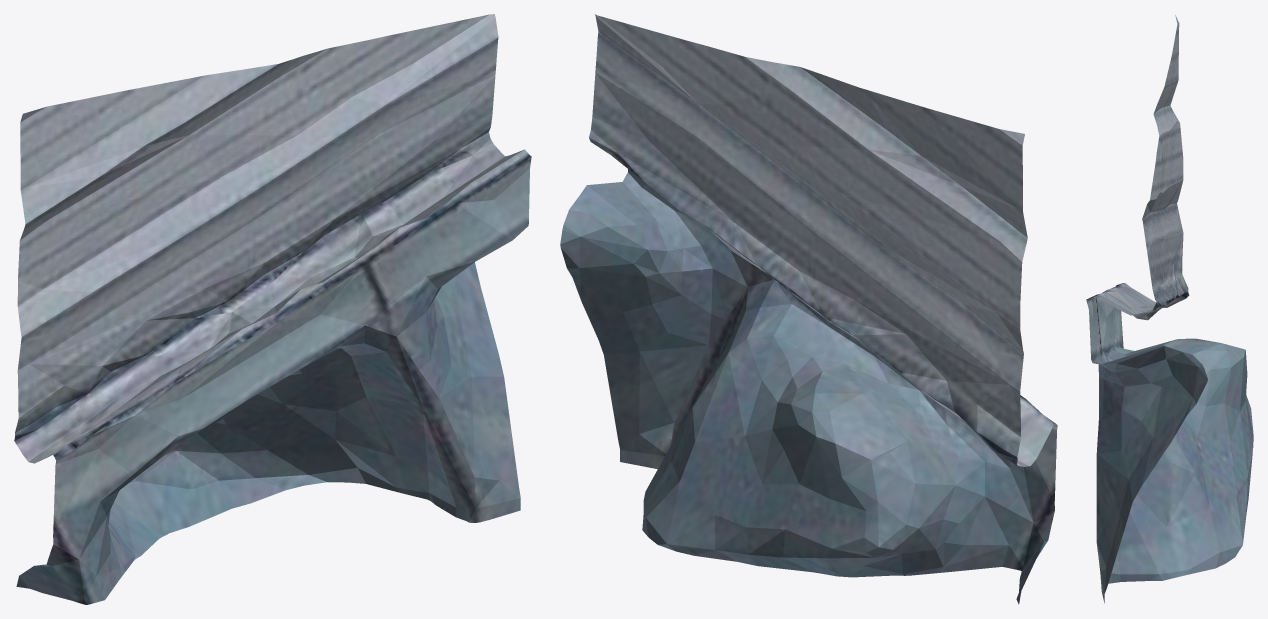
The model's file is Tile_+004_+007_L23_001323.obj.
3 renders of one model, left to right at view 1: azimuth 30°, elevation 25°; view 2: azimuth 150°, elevation 25°; view 3: azimuth 270°, elevation 25°, orthographic. The views are drawn at different scales.
Bounding box in the file's own units: 1.91 × 1.91 × 0.7183.
